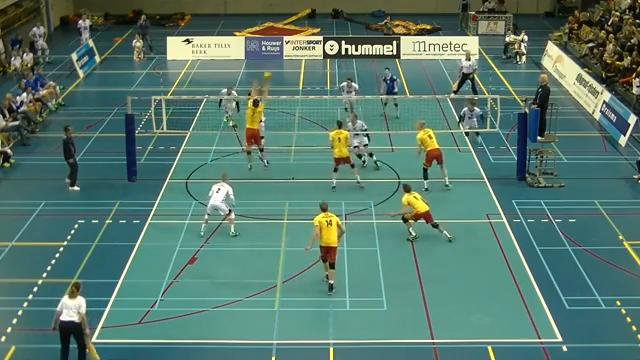muro: (240, 75, 272, 172)
